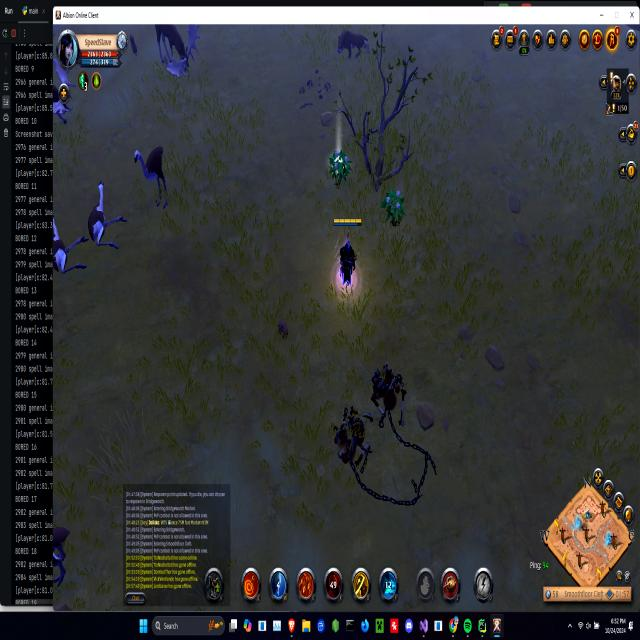hide: (382, 182, 407, 233), (328, 143, 352, 190)
mob: (84, 173, 130, 265), (53, 210, 91, 282)
ore: (129, 138, 177, 215), (152, 25, 202, 78), (335, 26, 371, 64)
red: (330, 214, 363, 297)
